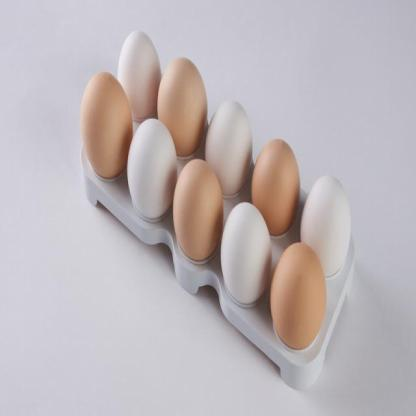egg: (76, 59, 136, 198), (221, 185, 272, 325), (204, 80, 258, 209), (156, 44, 210, 172), (176, 139, 222, 286), (128, 102, 178, 233), (304, 158, 354, 284), (270, 239, 325, 353), (248, 131, 304, 239), (119, 22, 172, 128)
